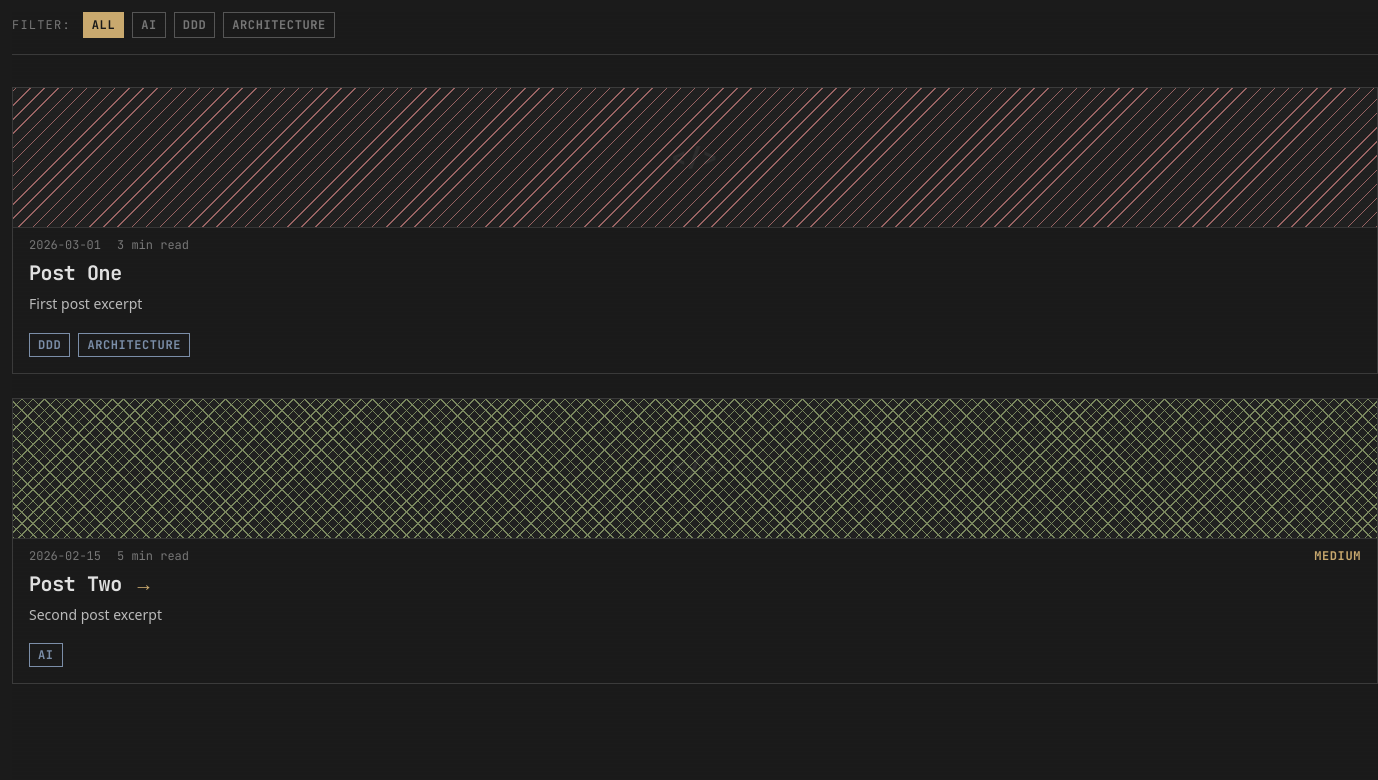
Test: WritingsList › filters writings when a tag is clicked
The image size is (1378, 780).
Click the button "AI" at (149, 25), box [132, 12, 166, 38]
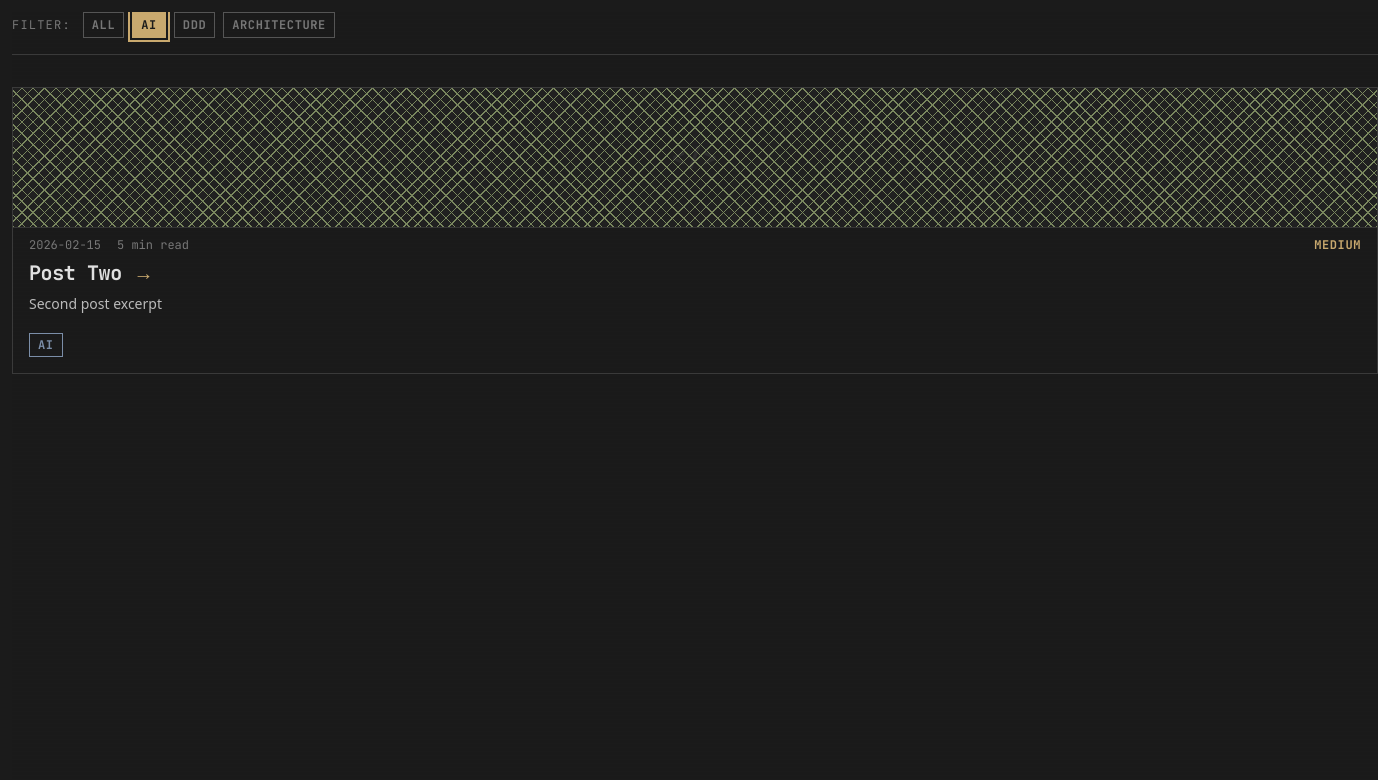
Expected: the heading "Post Two →" is shown, [29, 260, 153, 286]
Expected: the link "Post One" is gone
